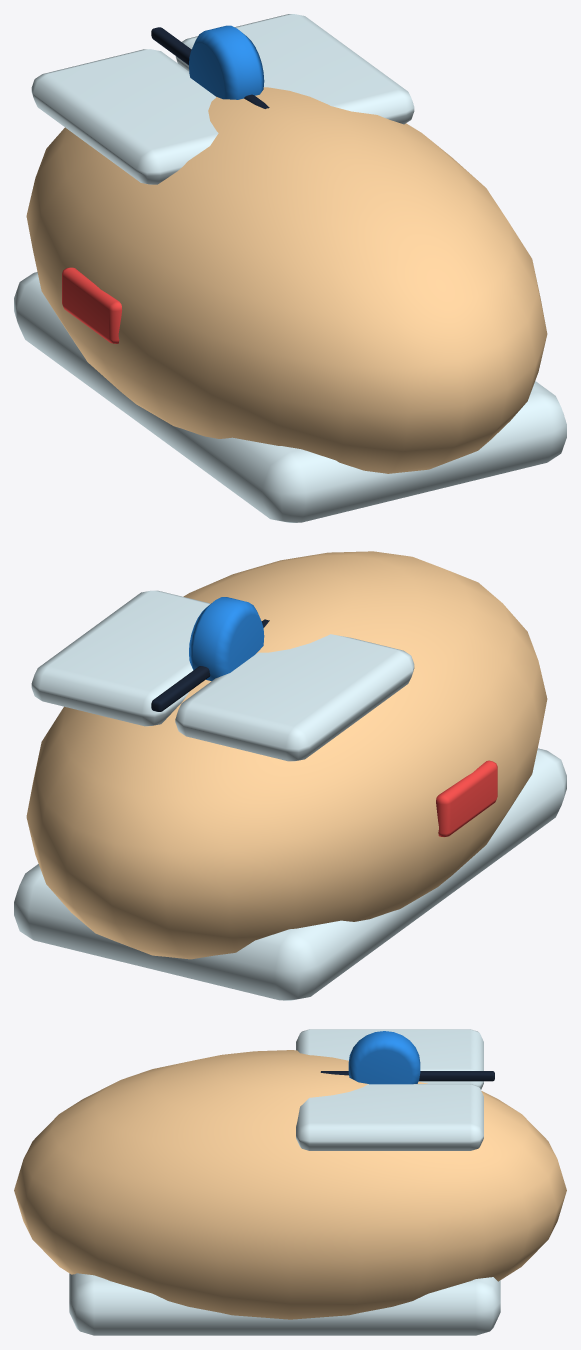
File: mouse.fbx
3 views of the same model, one above another, from view 1: azimuth 30°, elevation 25°; view 2: azimuth 150°, elevation 25°; view 3: azimuth 270°, elevation 25° (orthographic). The views are drawn at different scales.
Visible parts, largest first — view 1: mouse; view 2: mouse; view 3: mouse.
Part boxes in pixels (left/top/right/bottom): mouse: left=14, top=14, right=566, bottom=522; mouse: left=14, top=551, right=566, bottom=1000; mouse: left=14, top=1029, right=566, bottom=1335.
Bounding box in the file's own units: 62.55 × 55 × 100.
1 material, 1 textured.
